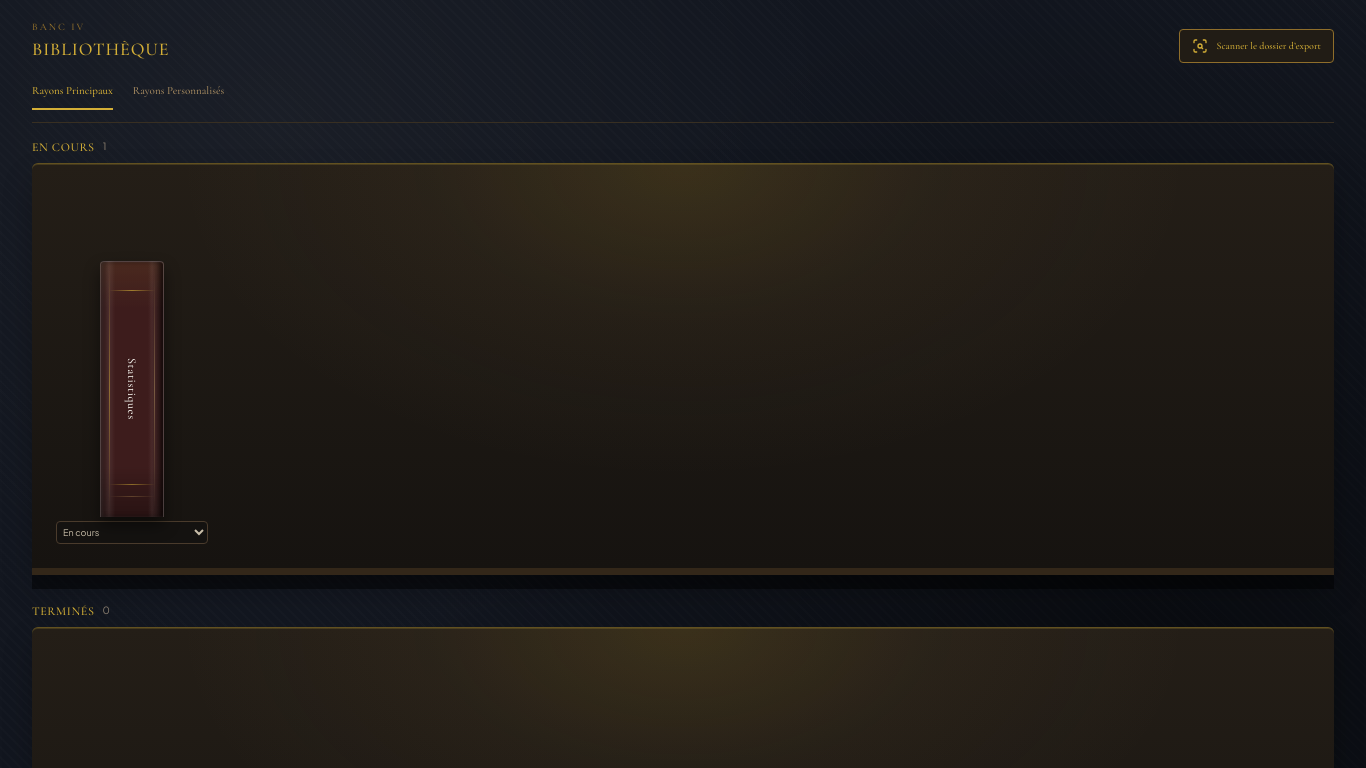
LibraryView › displays the selected book statistics and a readable modification date
Click the button with aria-label "Inspecter Statistiques": (132, 388) [100,260,164,516]
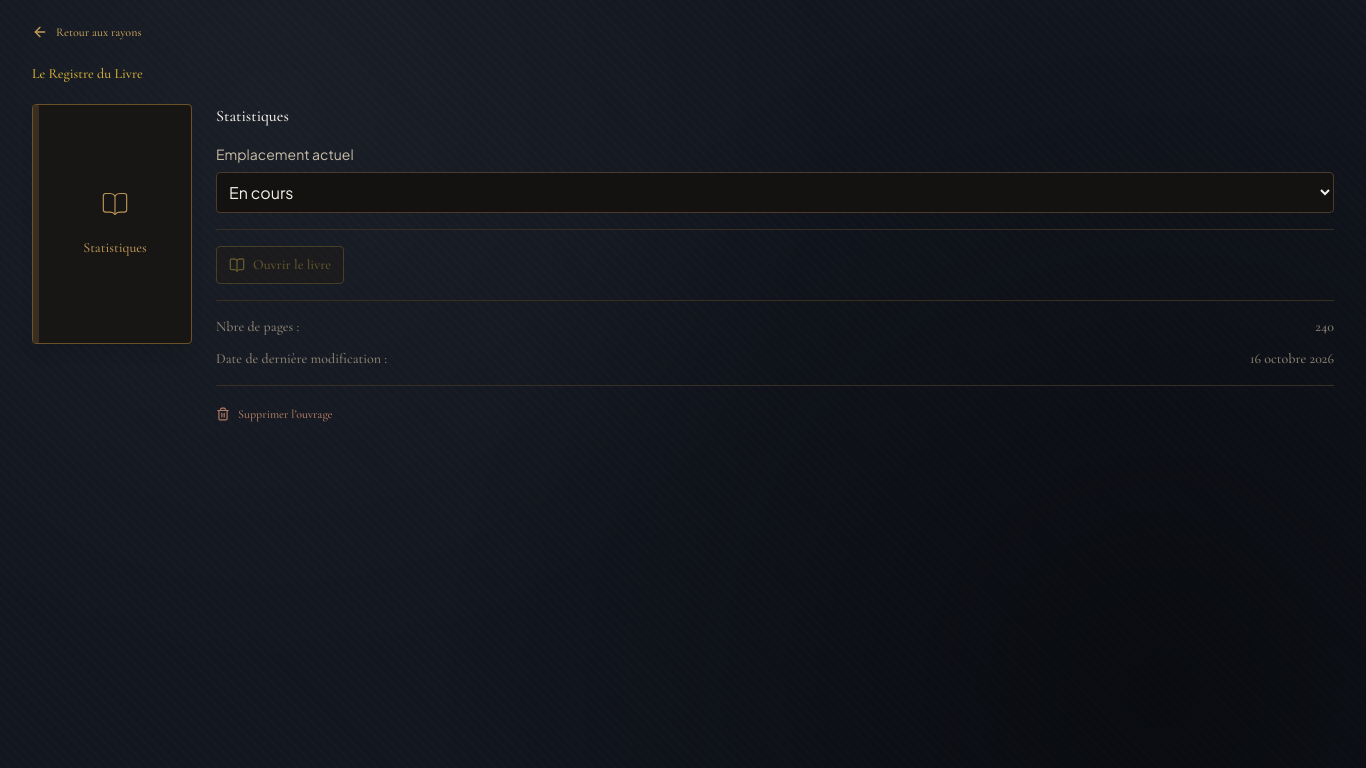
Expected: the heading "Le Registre du Livre" is shown, [32,65,143,82]
Expected: the element named "Statistiques de l’ouvrage" shows "240", [1315,318,1334,335]
Expected: the text "16 octobre 2026" is shown, [1250,350,1334,367]
Click the button "Retour aux rayons": (87, 32) [32,20,142,44]
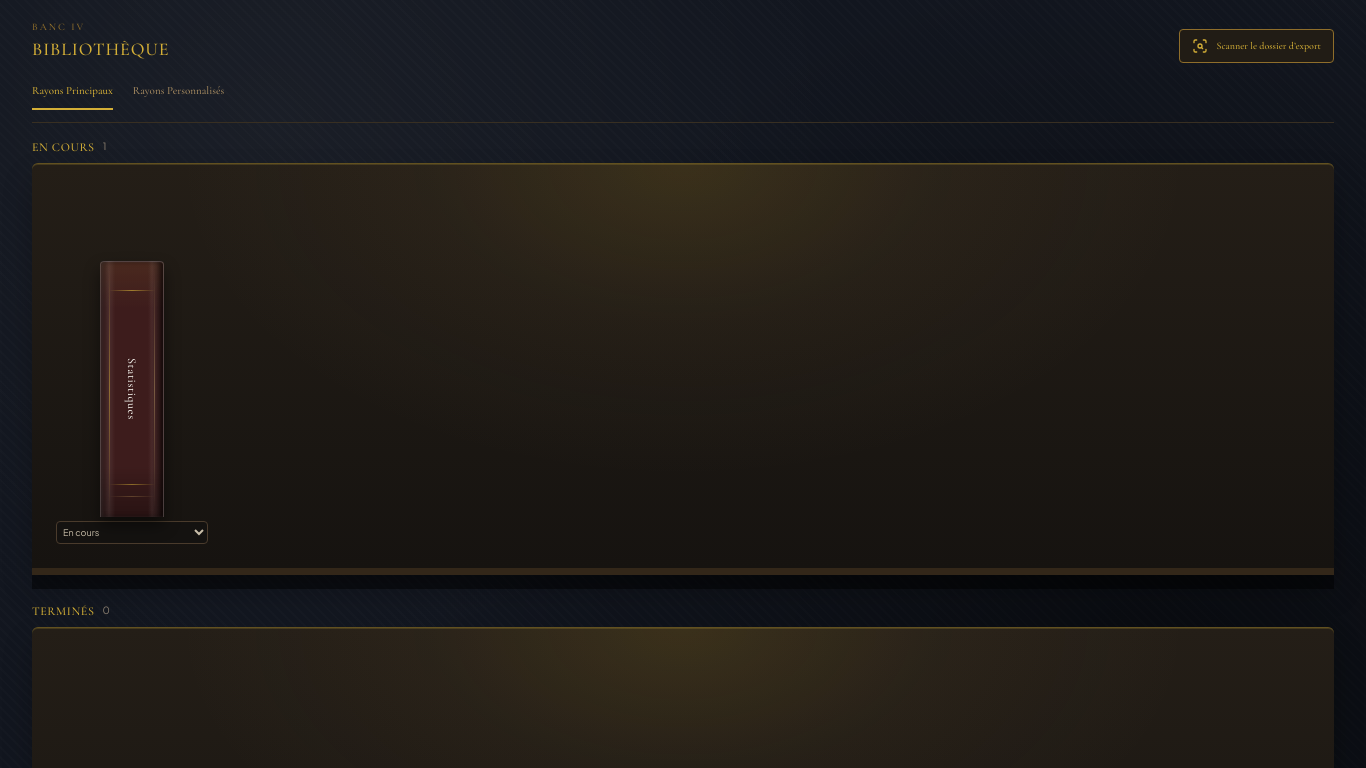
Click the button with aria-label "Inspecter Statistiques": (132, 388) [100,260,164,516]
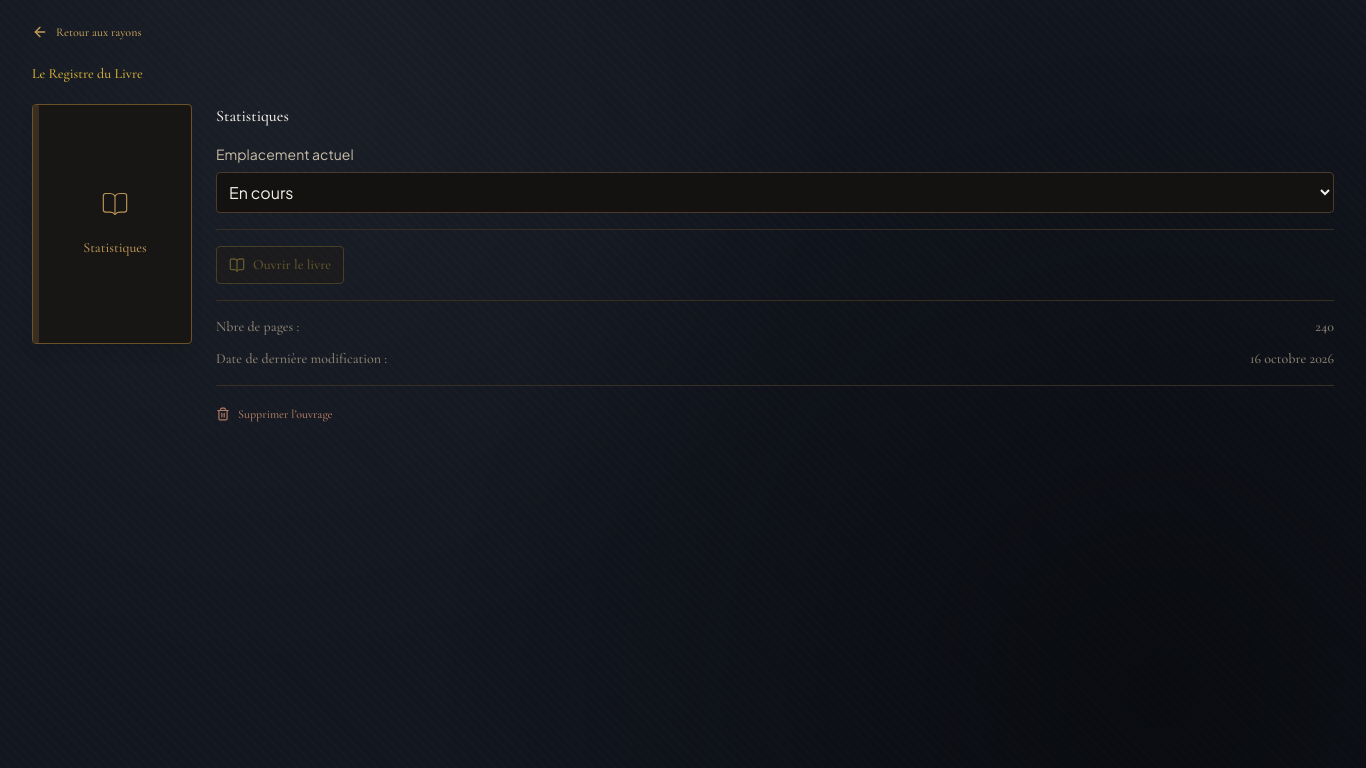
Expected: the heading "Le Registre du Livre" is shown, [32,65,143,82]
